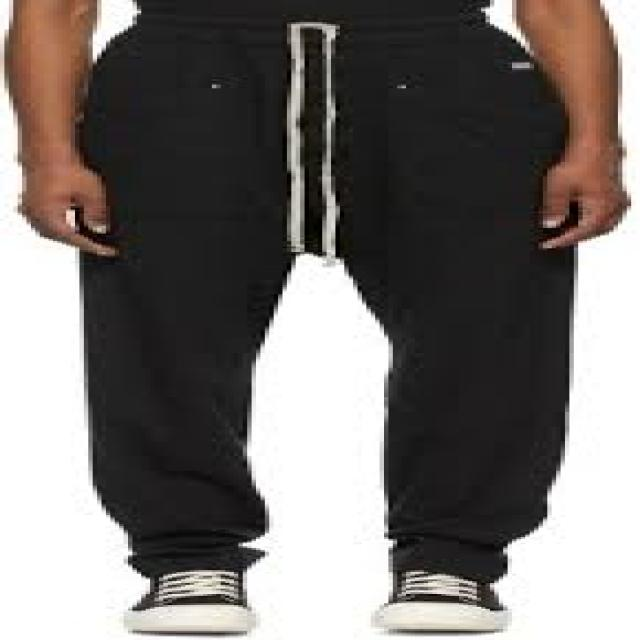long-pants: (74, 13, 580, 588)
